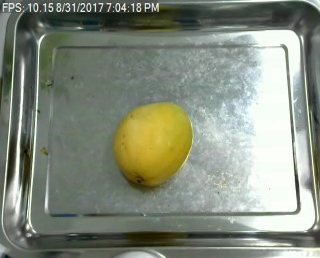Mango: (112, 100, 195, 189)
